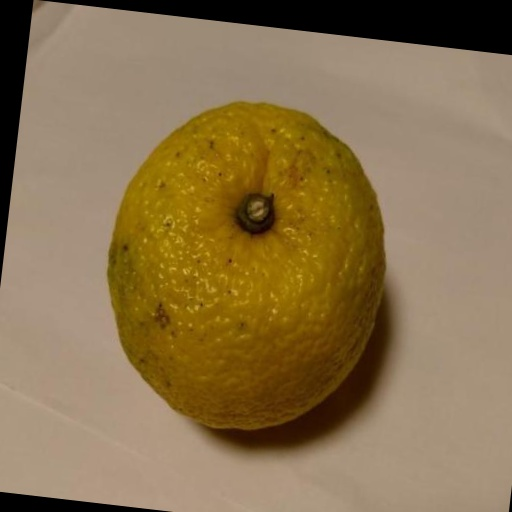fruit: (107, 102, 384, 429)
